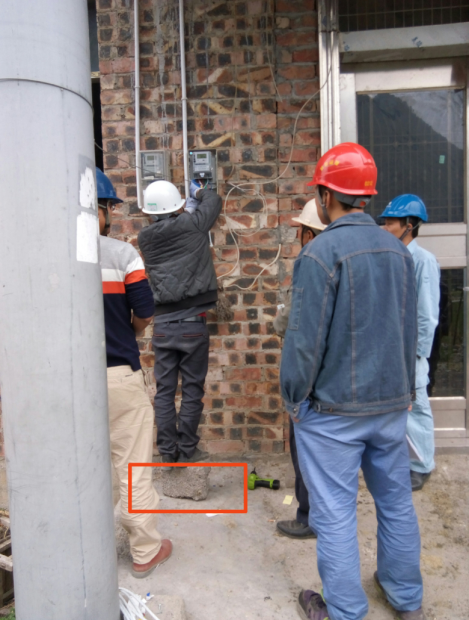downcloth: (290, 412, 429, 616), (91, 366, 168, 571), (151, 319, 213, 454), (400, 356, 442, 476)
glove: (183, 196, 202, 216), (185, 180, 203, 198)
halt: (307, 143, 380, 223), (377, 194, 430, 243), (294, 199, 343, 251), (93, 167, 125, 235), (144, 180, 185, 219)
inear: (402, 218, 417, 234)
outear: (315, 185, 332, 210)
person: (275, 139, 446, 620), (95, 167, 172, 565), (142, 172, 225, 462)
upcloth: (276, 221, 442, 415), (145, 186, 224, 315), (99, 226, 157, 359), (406, 242, 444, 364)
